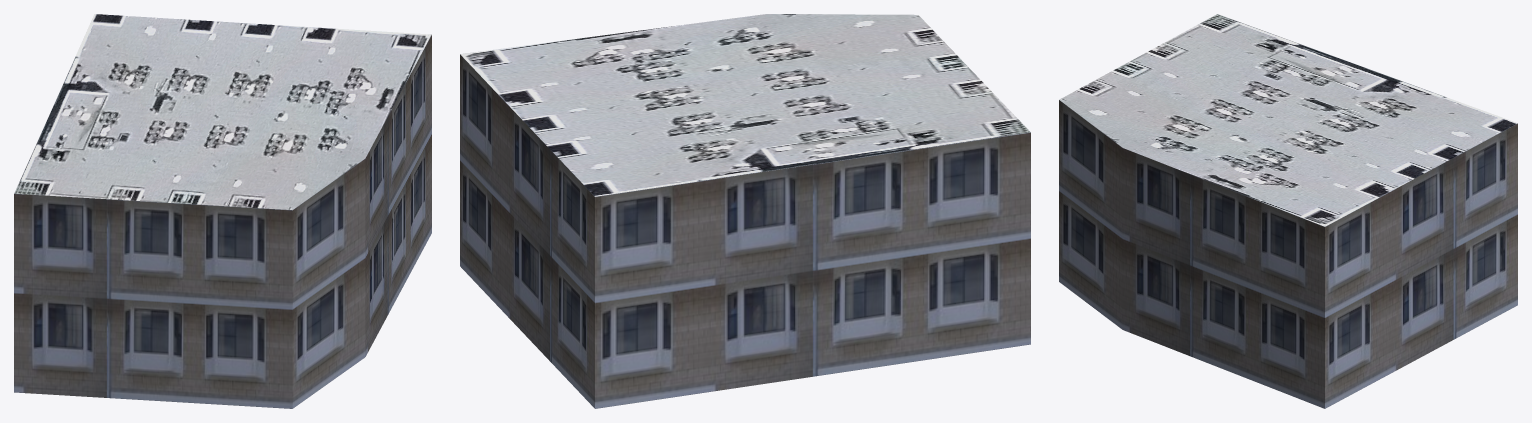
File: ResTex__2413.fbx
3 views of the same model, side by side, from view 1: azimuth 30°, elevation 25°; view 2: azimuth 150°, elevation 25°; view 3: azimuth 270°, elevation 25° (orthographic). The views are drawn at different scales.
Visible parts, largest first — view 1: CityEngineMaterial_3_m, CityEngineMaterial_8_m; view 2: CityEngineMaterial_3_m, CityEngineMaterial_8_m; view 3: CityEngineMaterial_3_m, CityEngineMaterial_8_m.
Part boxes in pixels (x1,y1,x2,y2): CityEngineMaterial_3_m: (14,35,431,408); CityEngineMaterial_8_m: (14,14,431,210); CityEngineMaterial_3_m: (460,54,1030,408); CityEngineMaterial_8_m: (460,14,1030,196); CityEngineMaterial_3_m: (1059,100,1517,408); CityEngineMaterial_8_m: (1059,14,1517,226).
Size of the model in its own units: 15.05 by 6 by 13.71.
Materials: 2 (2 with a texture image).
